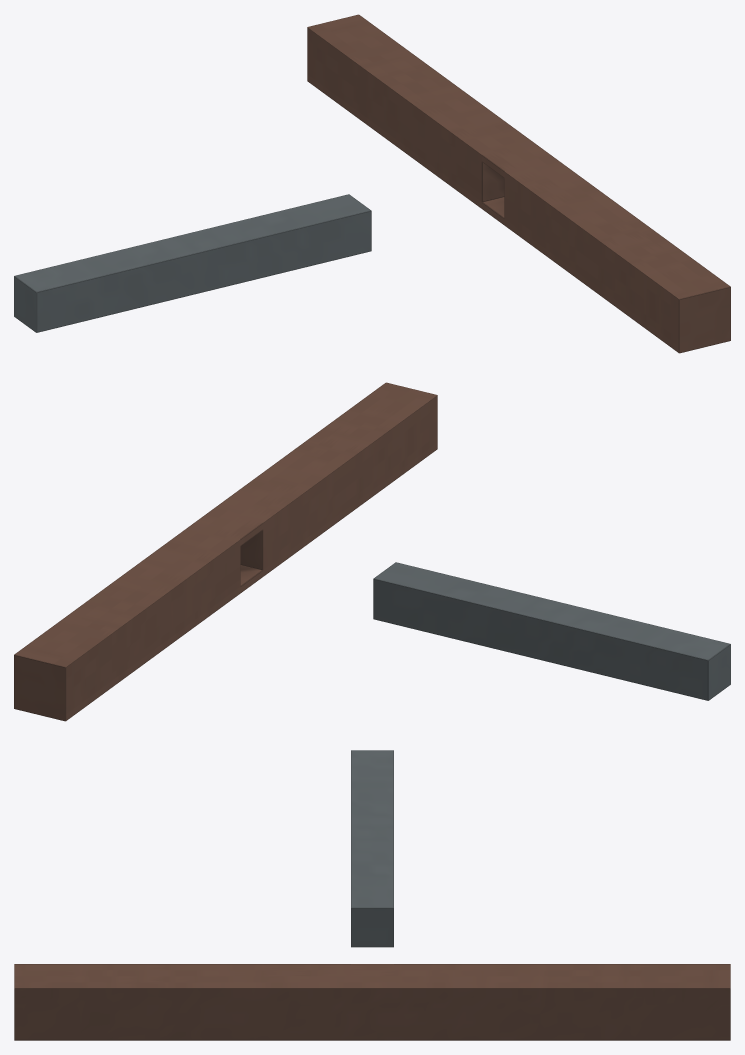
File: sleeper-into-sill.glb
The picture shows the model from 3 angles, top to bottom: view 1: azimuth 30°, elevation 25°; view 2: azimuth 150°, elevation 25°; view 3: azimuth 270°, elevation 25°; orthographic projection. The views are drawn at different scales.
Parts seen in each view (by area): view 1: part-a, part-b; view 2: part-a, part-b; view 3: part-a, part-b.
Boxes of the visible parts, x1,y1,x2,y2 form: part-a: [307, 14, 730, 353]; part-b: [14, 194, 371, 332]; part-a: [14, 382, 437, 721]; part-b: [373, 562, 730, 700]; part-a: [14, 964, 730, 1040]; part-b: [351, 750, 393, 947].
Bounding box in the file's own units: 1.21 × 0.1208 × 1.5.
